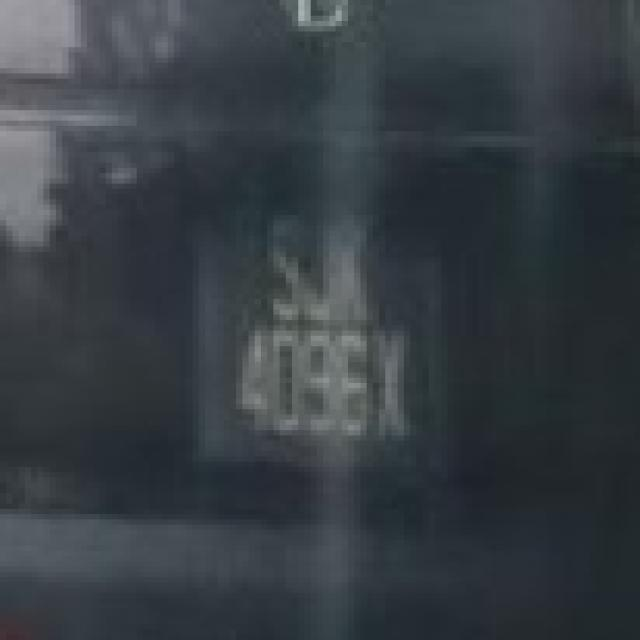0: (269, 330, 304, 436)
4: (240, 327, 276, 438)
6: (338, 332, 377, 441)
9: (300, 330, 338, 441)
J: (300, 212, 338, 324)
K: (334, 211, 378, 323)
S: (265, 213, 302, 327)
X: (374, 329, 416, 441)
